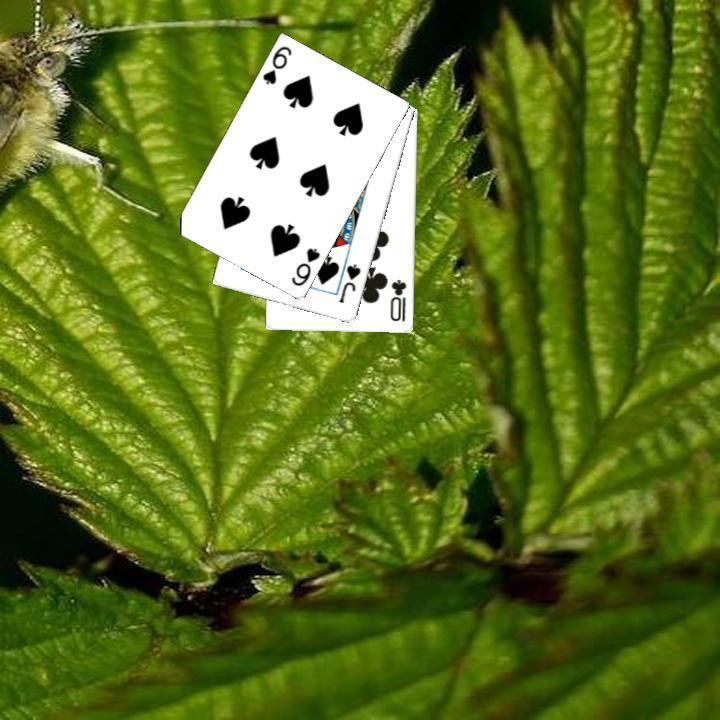10: (386, 275, 409, 324)
6: (258, 42, 294, 87), (287, 244, 322, 289)
J: (335, 260, 363, 305)
